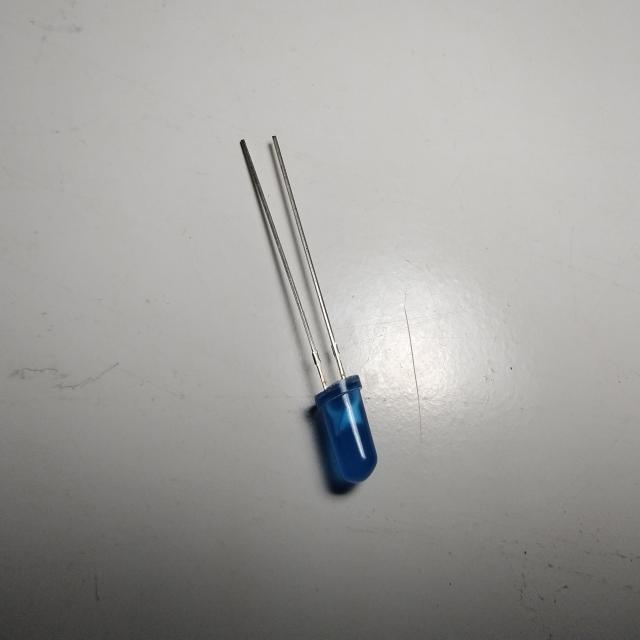blue_led: (313, 374, 378, 494)
